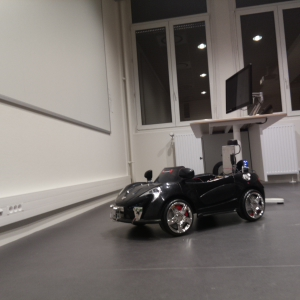big: (108, 160, 269, 234)
